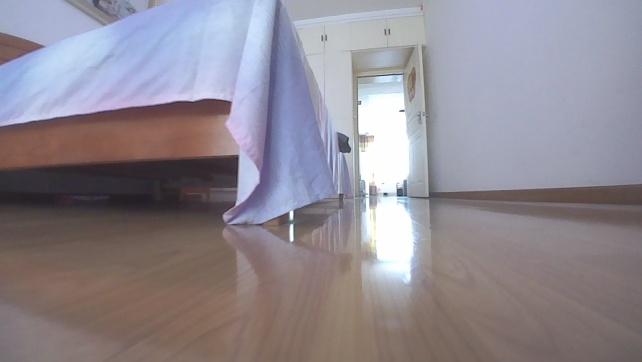bed1: (0, 0, 353, 227)
door_anno: (400, 38, 432, 200)
